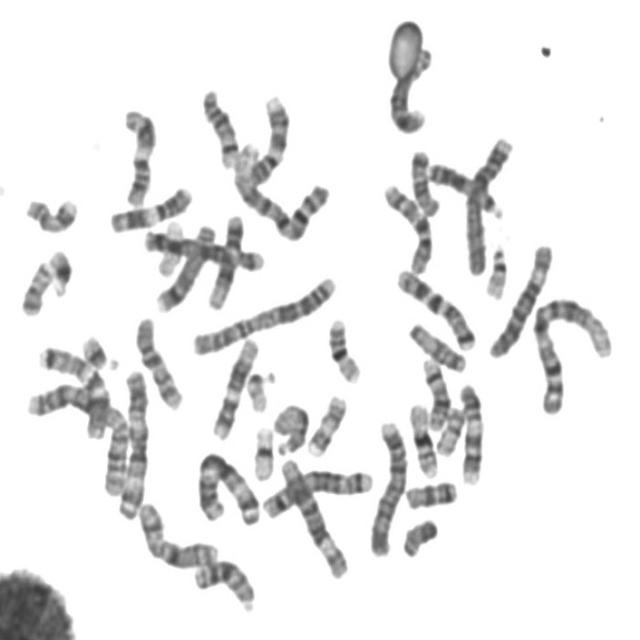A1: (228, 136, 334, 244), (528, 289, 617, 417)
A2: (187, 268, 339, 358), (20, 376, 132, 498)
A3: (111, 363, 152, 521), (191, 444, 263, 527)
B4: (461, 129, 516, 278), (363, 412, 409, 558)
B5: (258, 462, 376, 520), (140, 225, 266, 273)
C10: (130, 309, 187, 411), (378, 177, 436, 276)
C11: (104, 179, 196, 235), (117, 102, 159, 210)
C12: (208, 330, 261, 441), (202, 207, 248, 310)
C6: (276, 453, 350, 581), (485, 236, 557, 360)
C7: (392, 262, 479, 354), (32, 339, 112, 439)
C8: (150, 218, 217, 314), (383, 39, 436, 136)
C9: (242, 88, 293, 186), (454, 377, 487, 488)
D13: (422, 155, 508, 221), (190, 552, 258, 615)
D14: (196, 80, 241, 170), (418, 351, 453, 432)
D15: (404, 316, 469, 374), (268, 397, 312, 457)
E16: (404, 396, 442, 480), (323, 311, 364, 385)
E17: (302, 388, 349, 459), (20, 189, 81, 235)
E18: (406, 143, 442, 218), (400, 474, 460, 511)
F19: (152, 213, 188, 278), (248, 418, 278, 482)
F20: (15, 254, 56, 317), (430, 401, 468, 457)
G21: (44, 242, 76, 298), (76, 328, 112, 371)
G22: (480, 238, 510, 300), (243, 364, 277, 414)
X: (132, 496, 222, 571)
Y: (397, 511, 441, 560)
